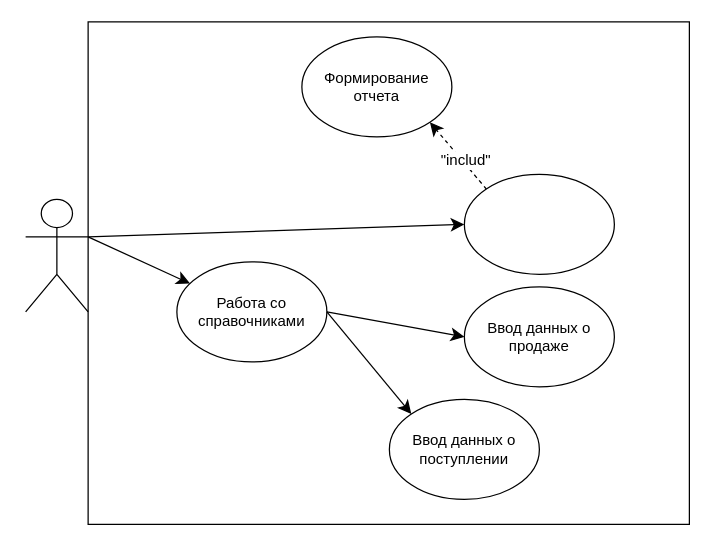
Image size: 711x546. Some labels were removed from this diagram. The centre of each missing label's shape, as x and y in pixels:
"Бухгалтер" belongs at pixel 56 255.
"Ведение отчетности об остатках" belongs at pixel 538 223.
